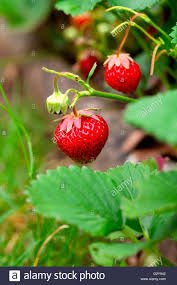ripe: (51, 110, 110, 166), (103, 53, 141, 94), (75, 46, 100, 74)
unripe: (44, 89, 70, 115)
